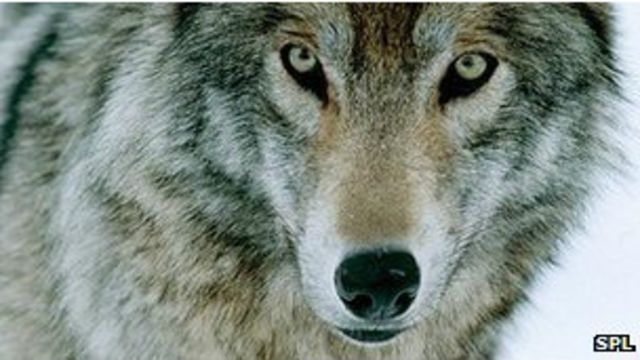Lobo: (11, 7, 598, 360)
